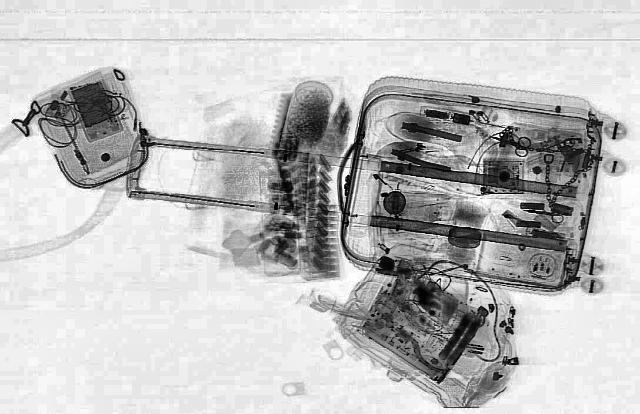Scissors: (479, 127, 537, 157)
